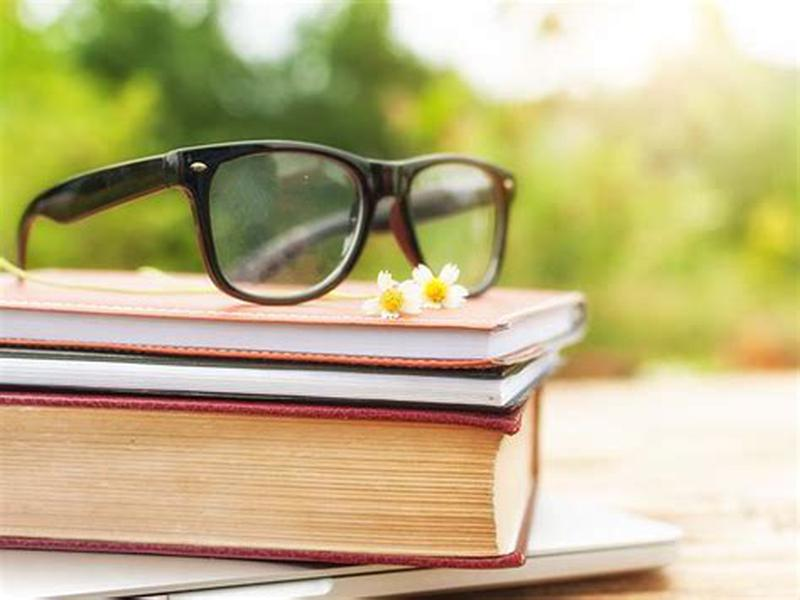book: (1, 385, 557, 574)
